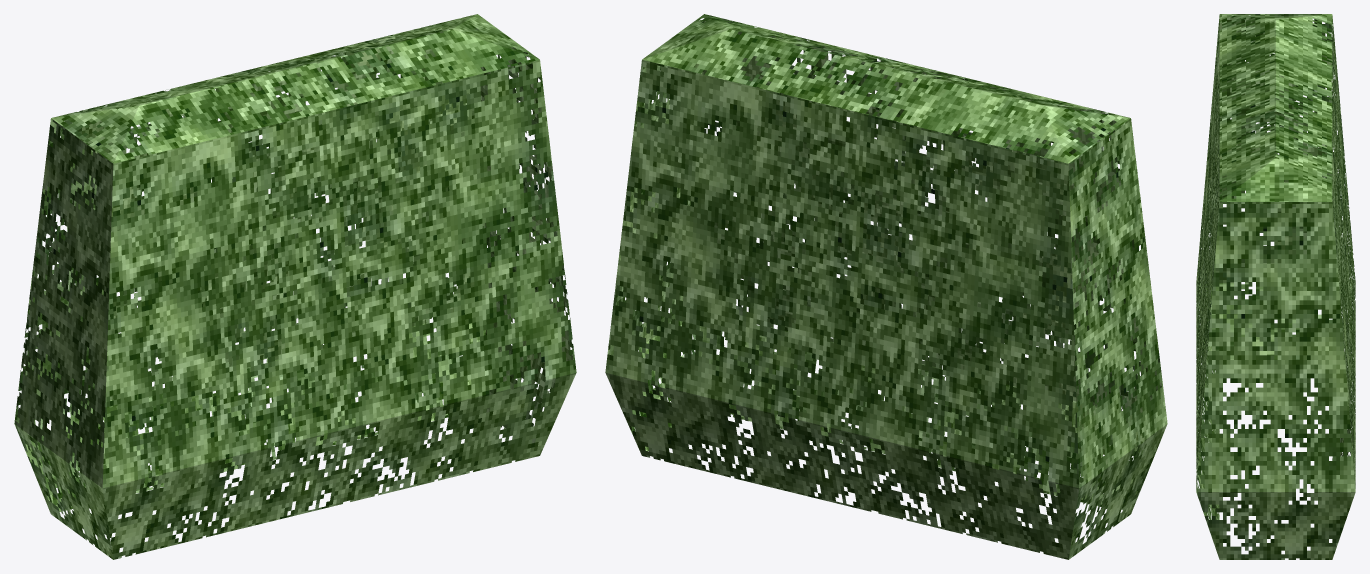
The model's file is bush_tall_single_summer.glb.
3 views of the same model, side by side, from view 1: azimuth 30°, elevation 25°; view 2: azimuth 150°, elevation 25°; view 3: azimuth 270°, elevation 25° (orthographic). The views are drawn at different scales.
Visible parts, largest first — view 1: bush_tall_single_summer; view 2: bush_tall_single_summer; view 3: bush_tall_single_summer.
Part boxes in pixels (left/top/right/bottom): bush_tall_single_summer: left=14, top=14, right=576, bottom=559; bush_tall_single_summer: left=605, top=14, right=1167, bottom=559; bush_tall_single_summer: left=1196, top=14, right=1355, bottom=559.
Size of the model in its own units: 2.23 by 1.88 by 0.7191.
1 material, 1 textured.
